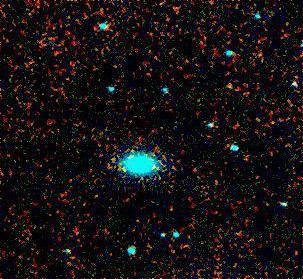star: (214, 71, 244, 101)
